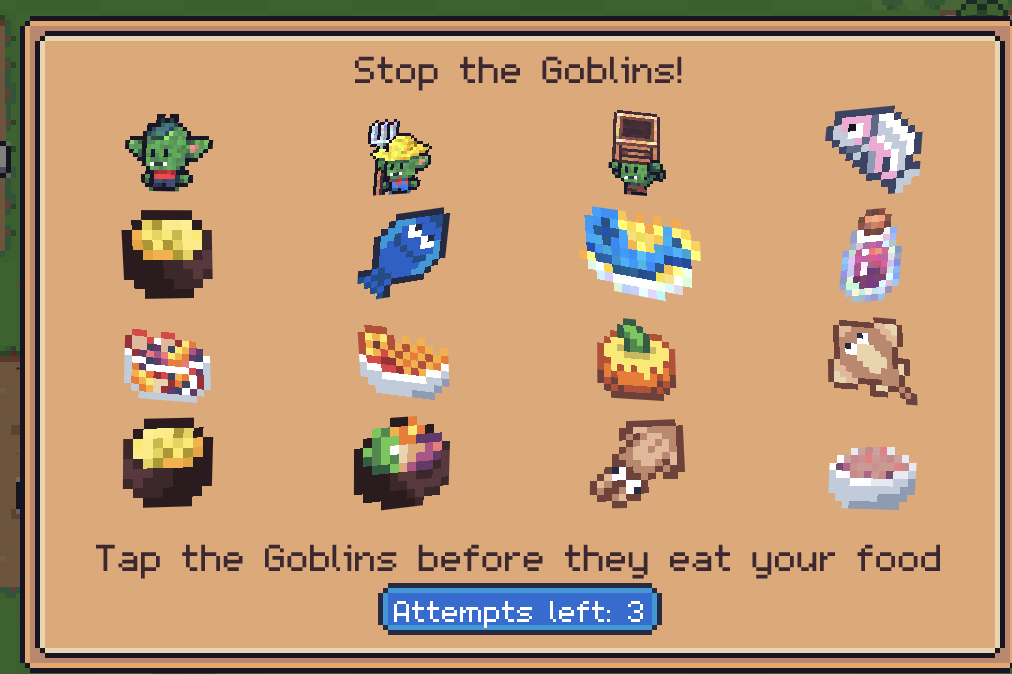capcha_goblin: (122, 110, 213, 192), (365, 116, 435, 198), (606, 108, 667, 198)
